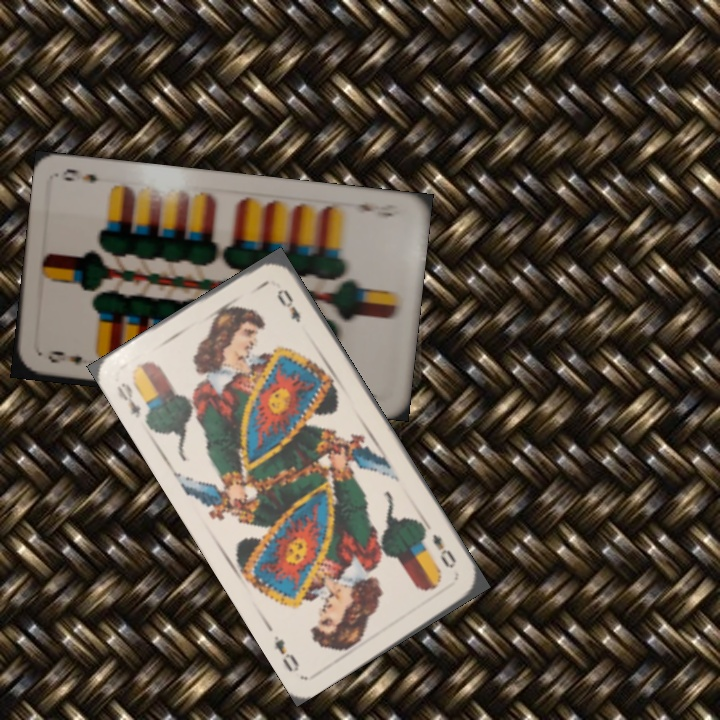E9: (346, 198, 403, 220), (43, 346, 85, 368)
EO: (112, 378, 144, 421), (428, 530, 459, 571)
